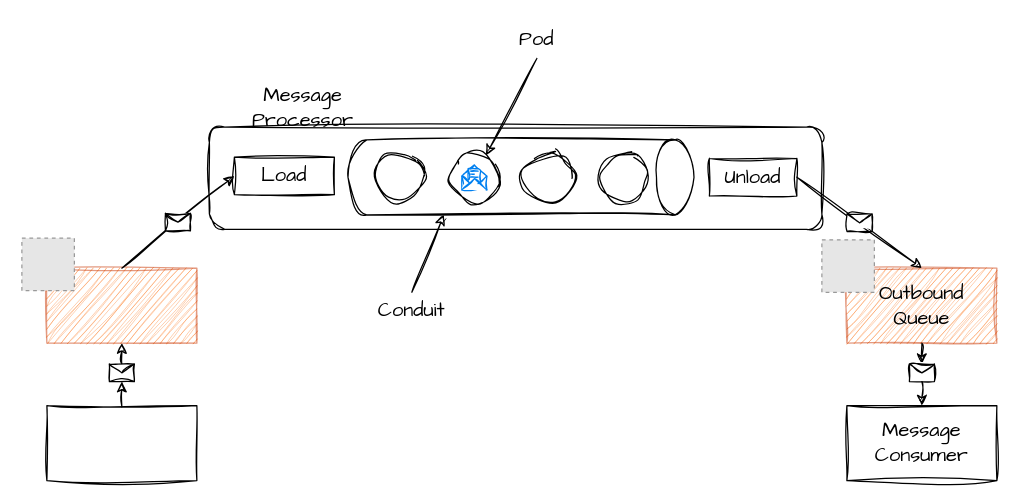
The diagram is 1019 pixels wide and 504 high, and some of its shapes have lost their labels. Grey dashed boxes stand in for pictures. The shapes that lost their labels are listed below. From the top down, each one's box as (x1, y1, x2, y2) in pixels, then its label:
(46, 267, 197, 343): Inbound Queue
(46, 404, 197, 481): Messge Producer
